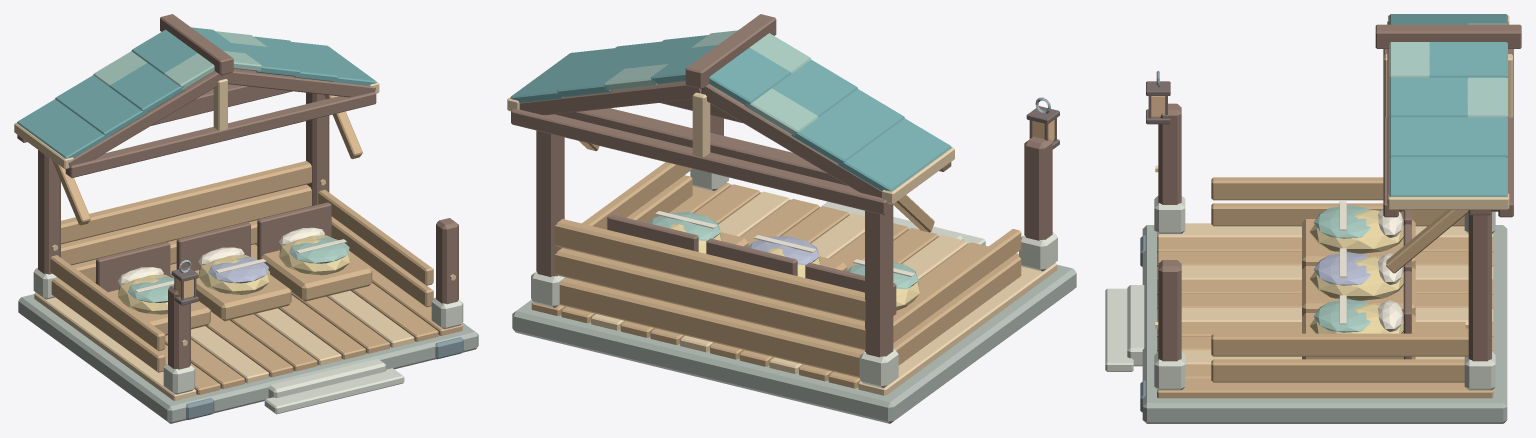
File: beds.fbx
The picture shows the model from 3 angles, left to right: view 1: azimuth 30°, elevation 25°; view 2: azimuth 150°, elevation 25°; view 3: azimuth 270°, elevation 25°; orthographic projection. The views are drawn at different scales.
Parts seen in each view (by area): view 1: beds_mesh; view 2: beds_mesh; view 3: beds_mesh.
Part boxes in pixels (left/top/right/bottom): beds_mesh: left=14, top=14, right=478, bottom=423; beds_mesh: left=507, top=14, right=1076, bottom=423; beds_mesh: left=1105, top=14, right=1521, bottom=423.
Size of the model in its own units: 3.37 by 2.62 by 3.22.
